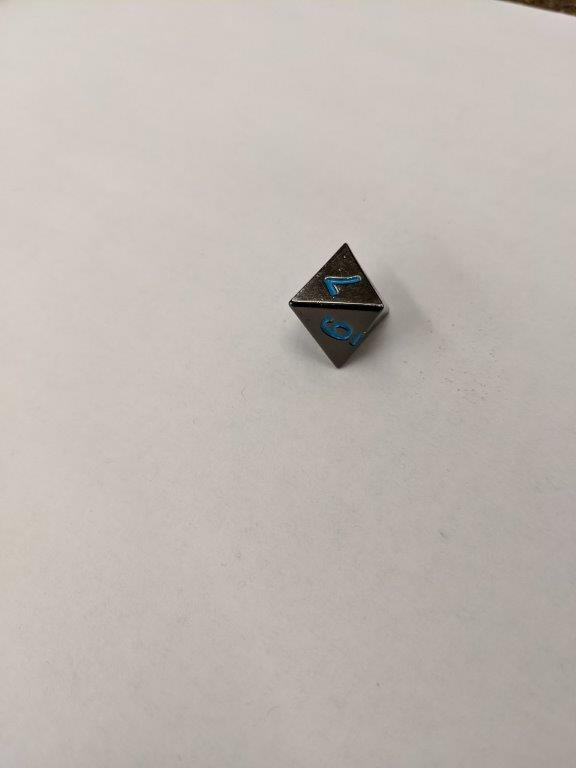d8-7: (286, 242, 387, 370)
